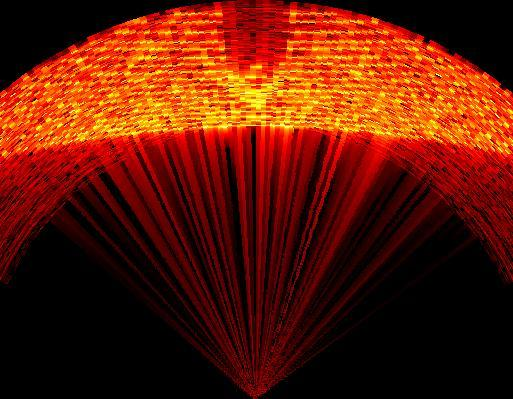box_crate: (222, 2, 292, 66)
